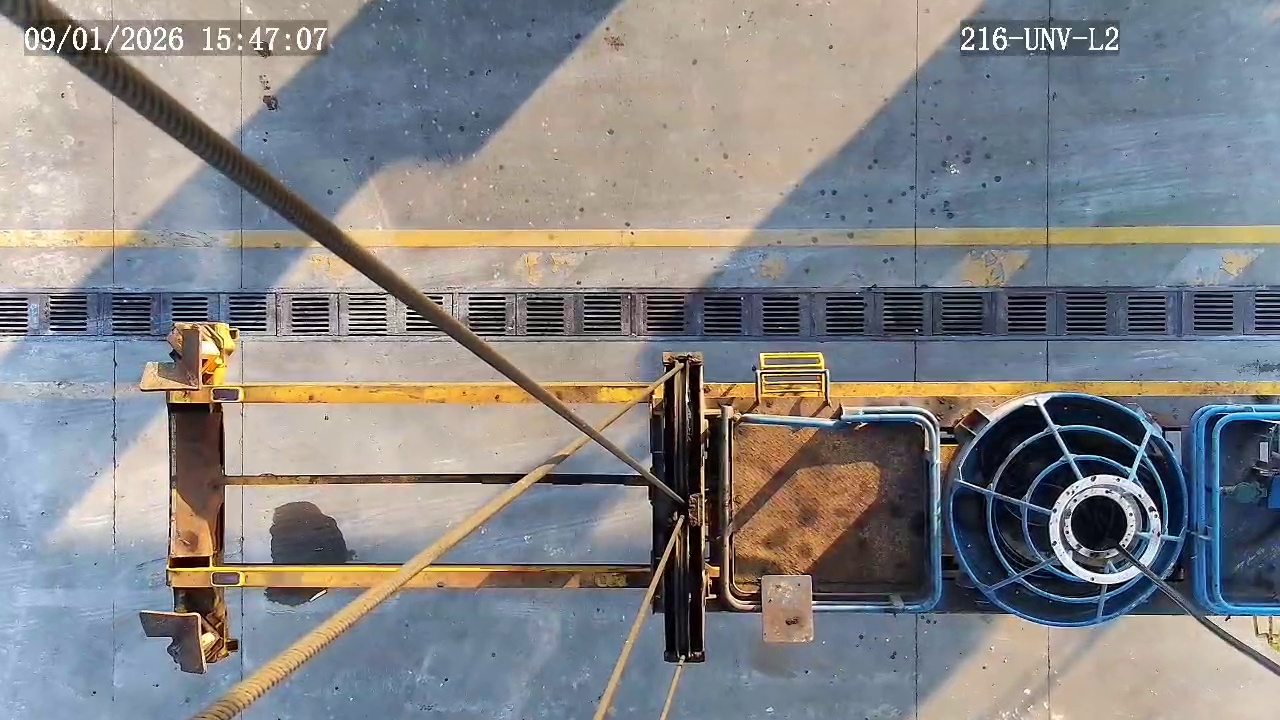left: (1048, 475, 1162, 585)
